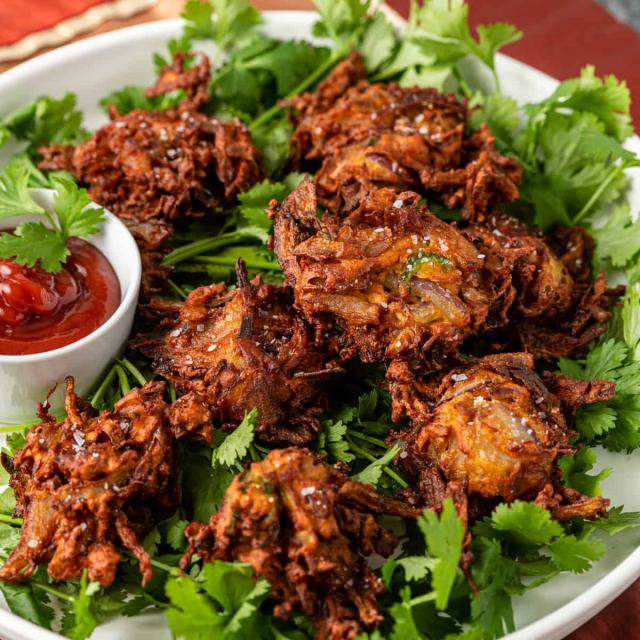BAJI: (178, 452, 420, 639), (390, 350, 619, 520), (2, 393, 204, 585), (272, 183, 485, 363), (40, 60, 250, 237), (290, 59, 524, 217), (152, 268, 345, 450), (467, 222, 629, 357)
